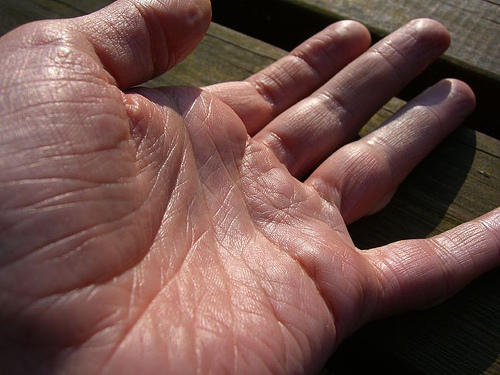palm: (6, 79, 341, 361)
